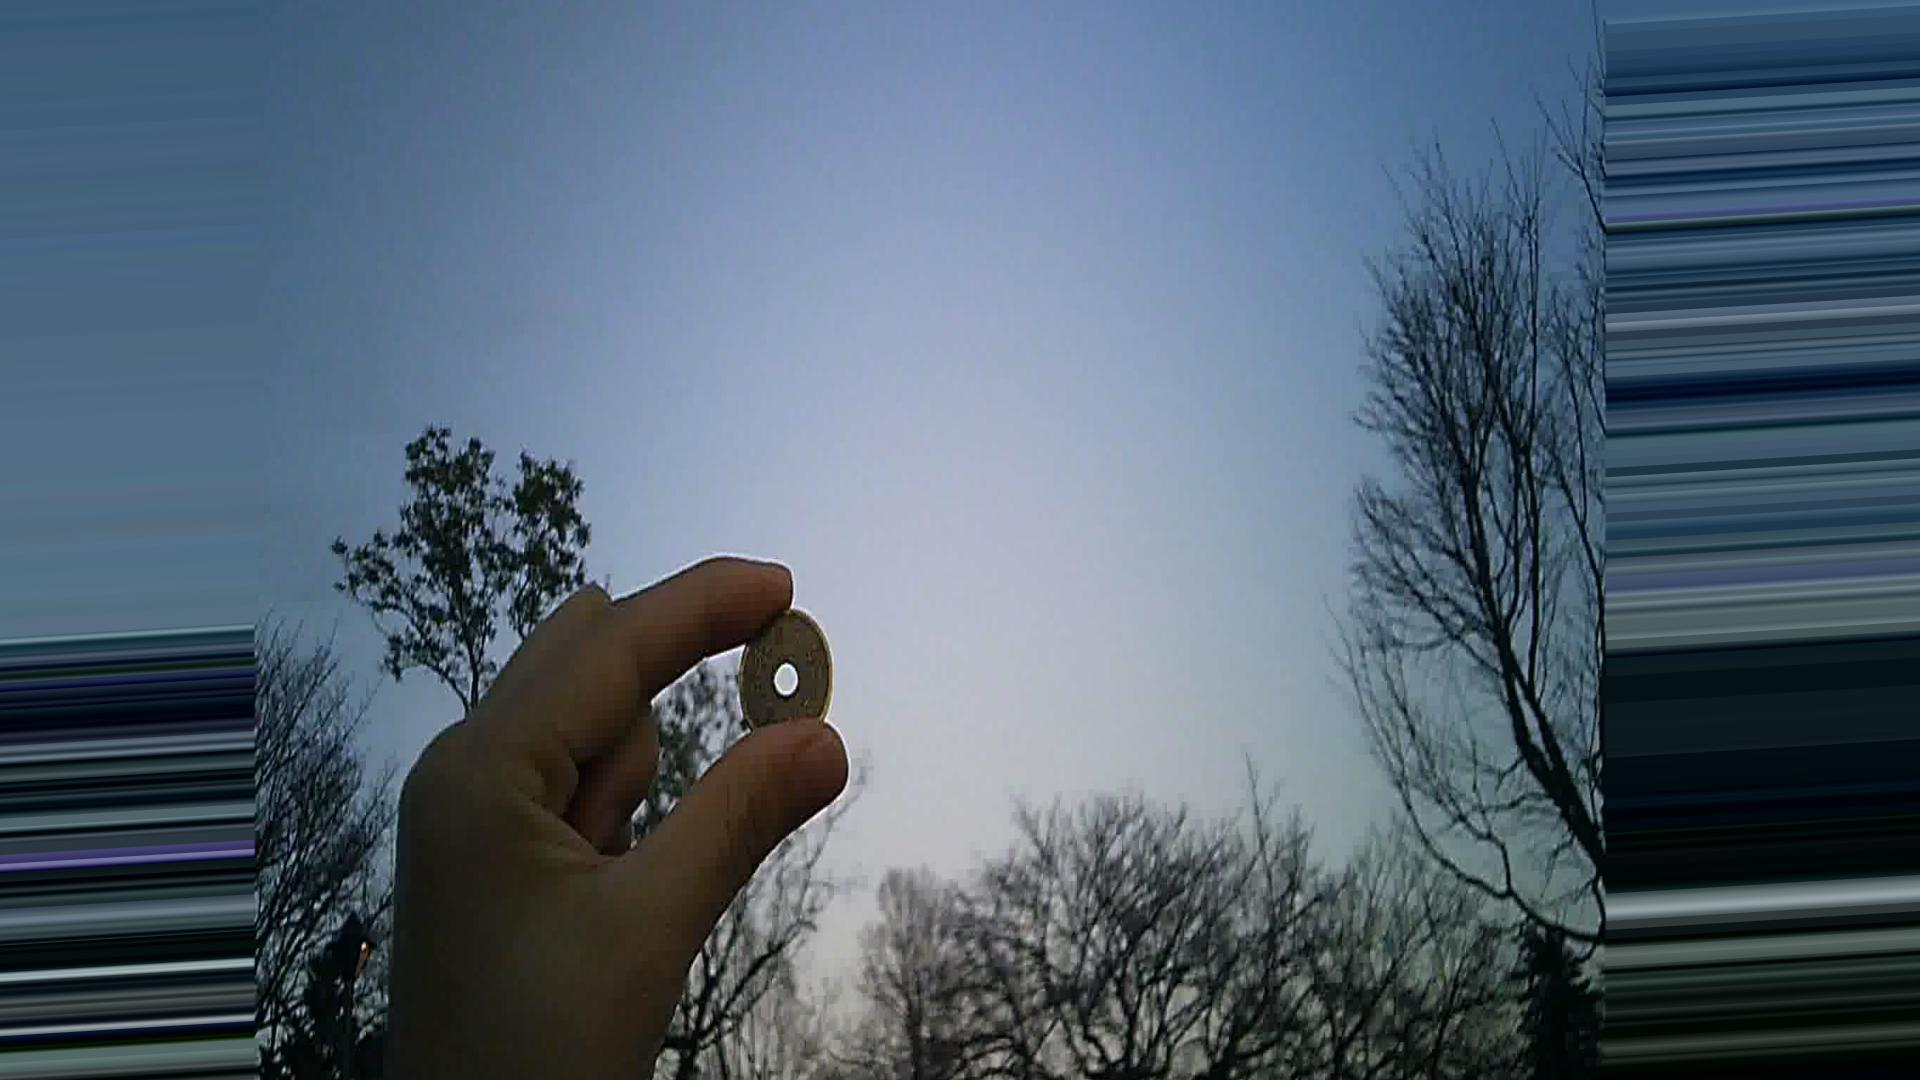5 Yen: (719, 599, 858, 757)
